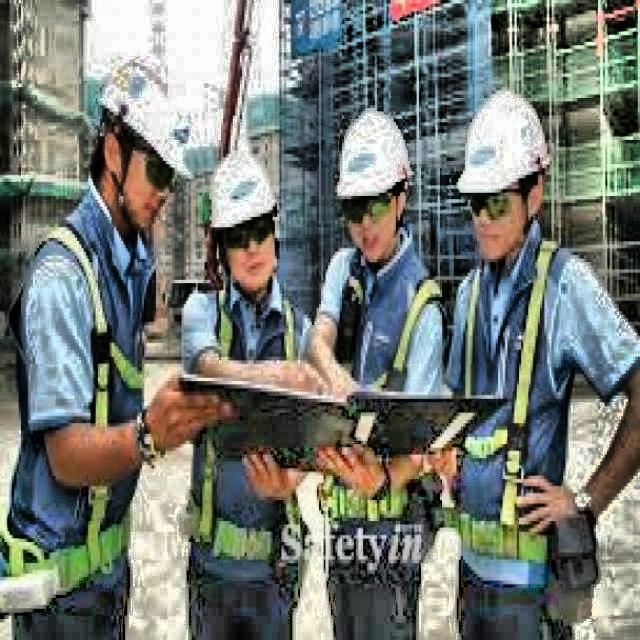bull_dozer/loader/grader: (165, 0, 258, 339)
person: (0, 53, 234, 640), (442, 87, 639, 640), (180, 149, 330, 640), (308, 107, 446, 640)
